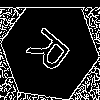R: (25, 25, 80, 81)
